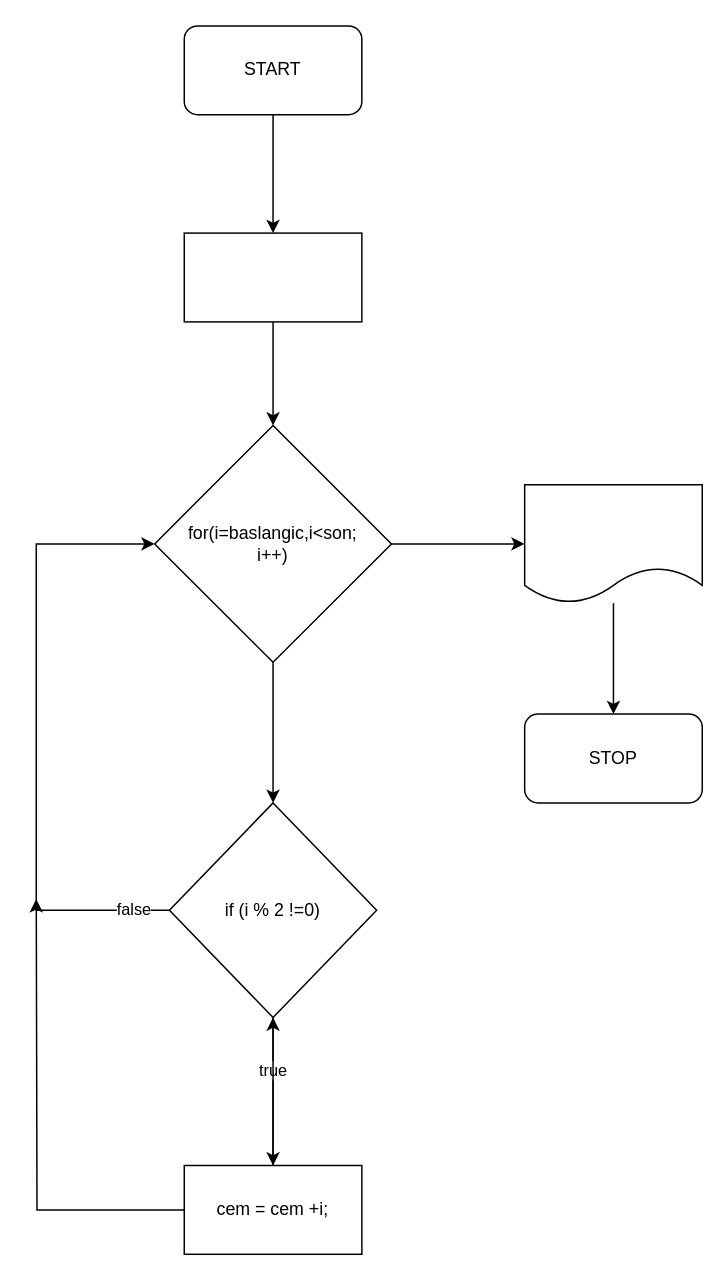
Some shapes in this 728 by 1280 pixel diagram are drawn without their labels. The box of each missing label's shape, as (x1, y1, x2, y2) in pixels:
baslangic=1; son=20; cem=0;: (183, 232, 362, 322)
print cem;: (523, 483, 702, 603)
